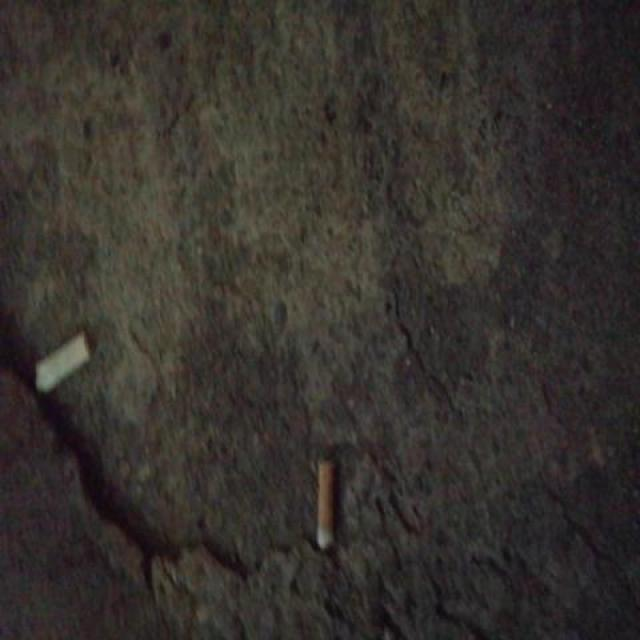non-organic waste: (31, 325, 94, 399), (313, 456, 339, 556)
